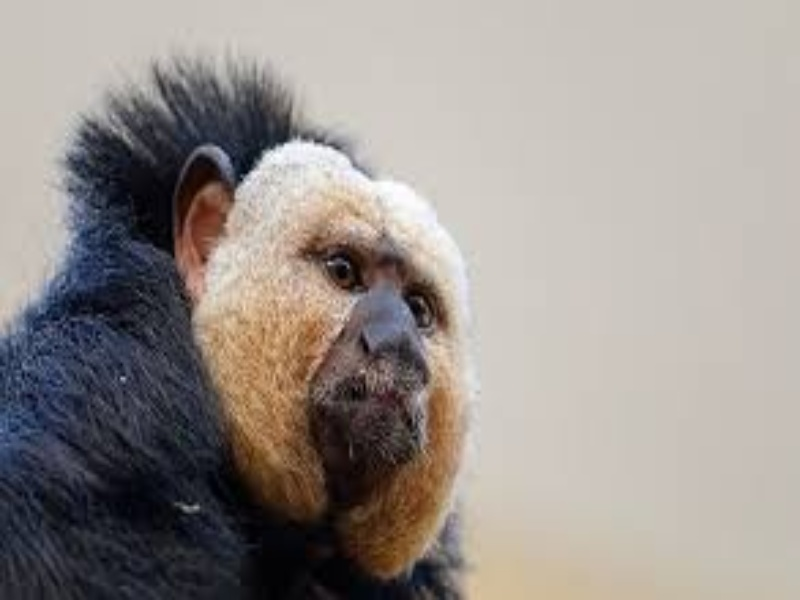monkey: (33, 78, 520, 581)
